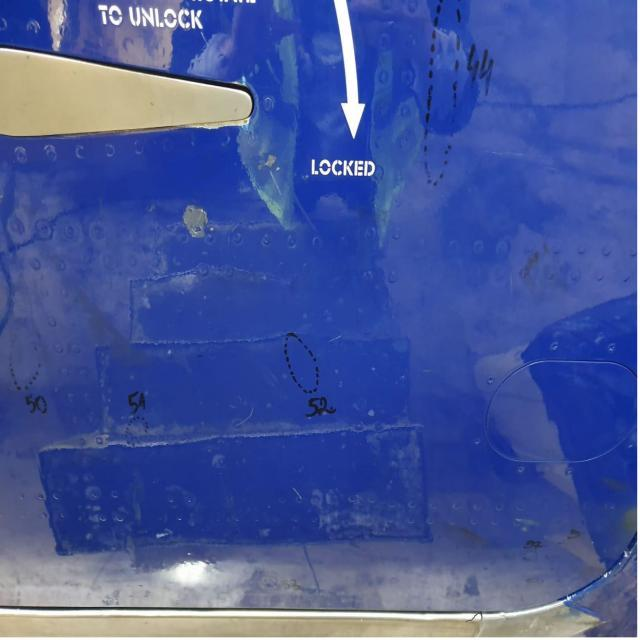crack: (464, 614, 483, 627)
